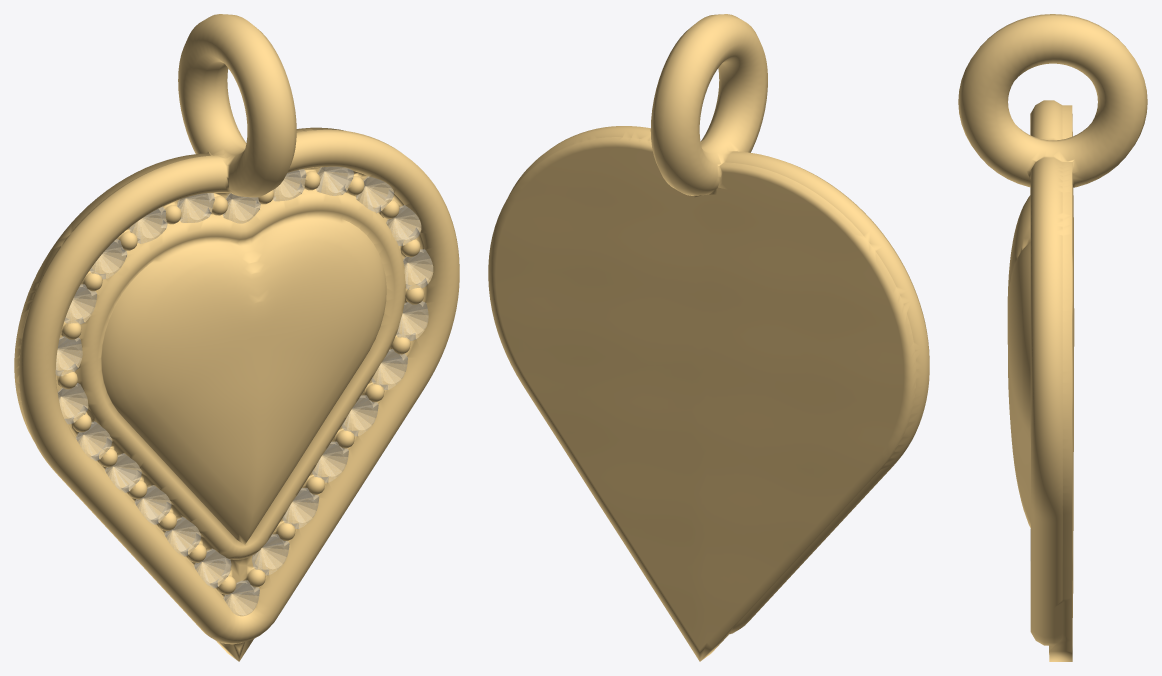
File: pendant_heart_halo.glb
3 views of the same model, side by side, from view 1: azimuth 30°, elevation 25°; view 2: azimuth 150°, elevation 25°; view 3: azimuth 270°, elevation 25° (orthographic).
Parts seen in each view (by area): view 1: gold, halo1, halo4, halo2, halo23, halo3, halo5, halo6, halo7, halo8, halo22, halo21 (+13 smaller); view 2: gold; view 3: gold.
Part boxes in pixels (<box>): gold: <box>14,14,459,661</box>; halo1: <box>252,534,289,574</box>; halo4: <box>342,395,378,435</box>; halo2: <box>282,488,318,528</box>; halo23: <box>194,549,231,588</box>; halo3: <box>312,442,348,482</box>; halo5: <box>371,349,407,389</box>; halo6: <box>396,301,428,340</box>; halo7: <box>403,249,432,289</box>; halo8: <box>386,205,420,245</box>; halo22: <box>164,517,200,556</box>; halo21: <box>135,485,171,524</box>; gold: <box>488,14,929,661</box>; gold: <box>958,14,1147,661</box>.
Bounding box in the file's own units: 0.0147 × 0.0206 × 0.00548.
